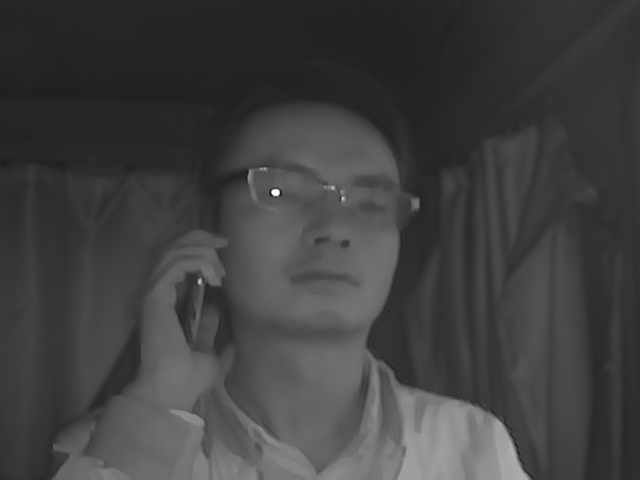hand: (132, 225, 232, 394)
